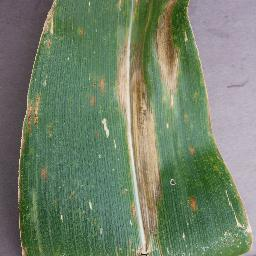Corn_Blight: (115, 36, 166, 254), (220, 157, 256, 256), (165, 0, 187, 102), (14, 144, 31, 256), (20, 80, 42, 141), (201, 72, 219, 132), (33, 0, 58, 40), (86, 73, 107, 109), (113, 0, 144, 20), (35, 164, 54, 184), (73, 22, 92, 42), (187, 140, 204, 160), (185, 194, 202, 213), (81, 200, 98, 217), (101, 114, 110, 144), (165, 176, 180, 188), (57, 214, 64, 223)
